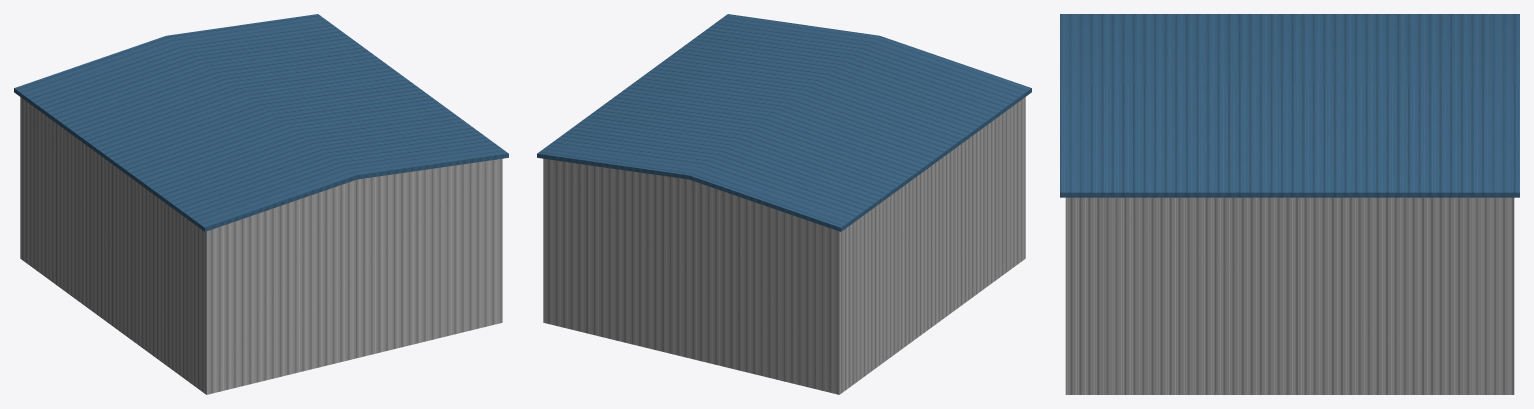
File: LWZHGK_GJSB_FangJianWaiKe.FBX
The picture shows the model from 3 angles, left to right: view 1: azimuth 30°, elevation 25°; view 2: azimuth 150°, elevation 25°; view 3: azimuth 270°, elevation 25°; orthographic projection. The views are drawn at different scales.
Parts seen in each view (by area): view 1: LWZHGK_GJSB_FangJianWaiKe; view 2: LWZHGK_GJSB_FangJianWaiKe; view 3: LWZHGK_GJSB_FangJianWaiKe.
Boxes of the visible parts, x1,y1,x2,y2 form: LWZHGK_GJSB_FangJianWaiKe: [14, 14, 508, 394]; LWZHGK_GJSB_FangJianWaiKe: [537, 14, 1031, 394]; LWZHGK_GJSB_FangJianWaiKe: [1060, 14, 1519, 394].
Size of the model in its own units: 11304 by 6577 by 12285.
